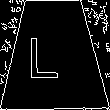L_N: (38, 29, 71, 80)
